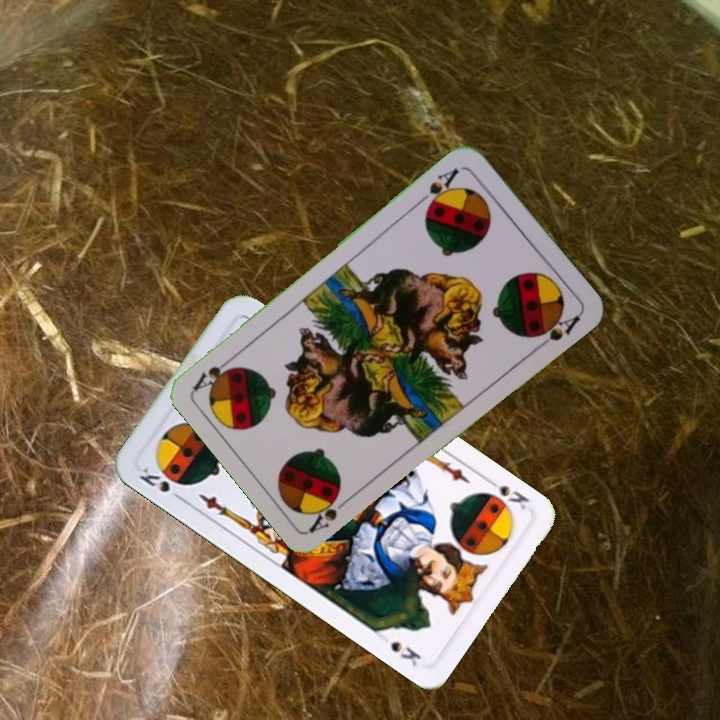SA: (414, 164, 462, 213), (306, 488, 355, 535)
SK: (135, 463, 187, 504), (481, 473, 532, 512)
